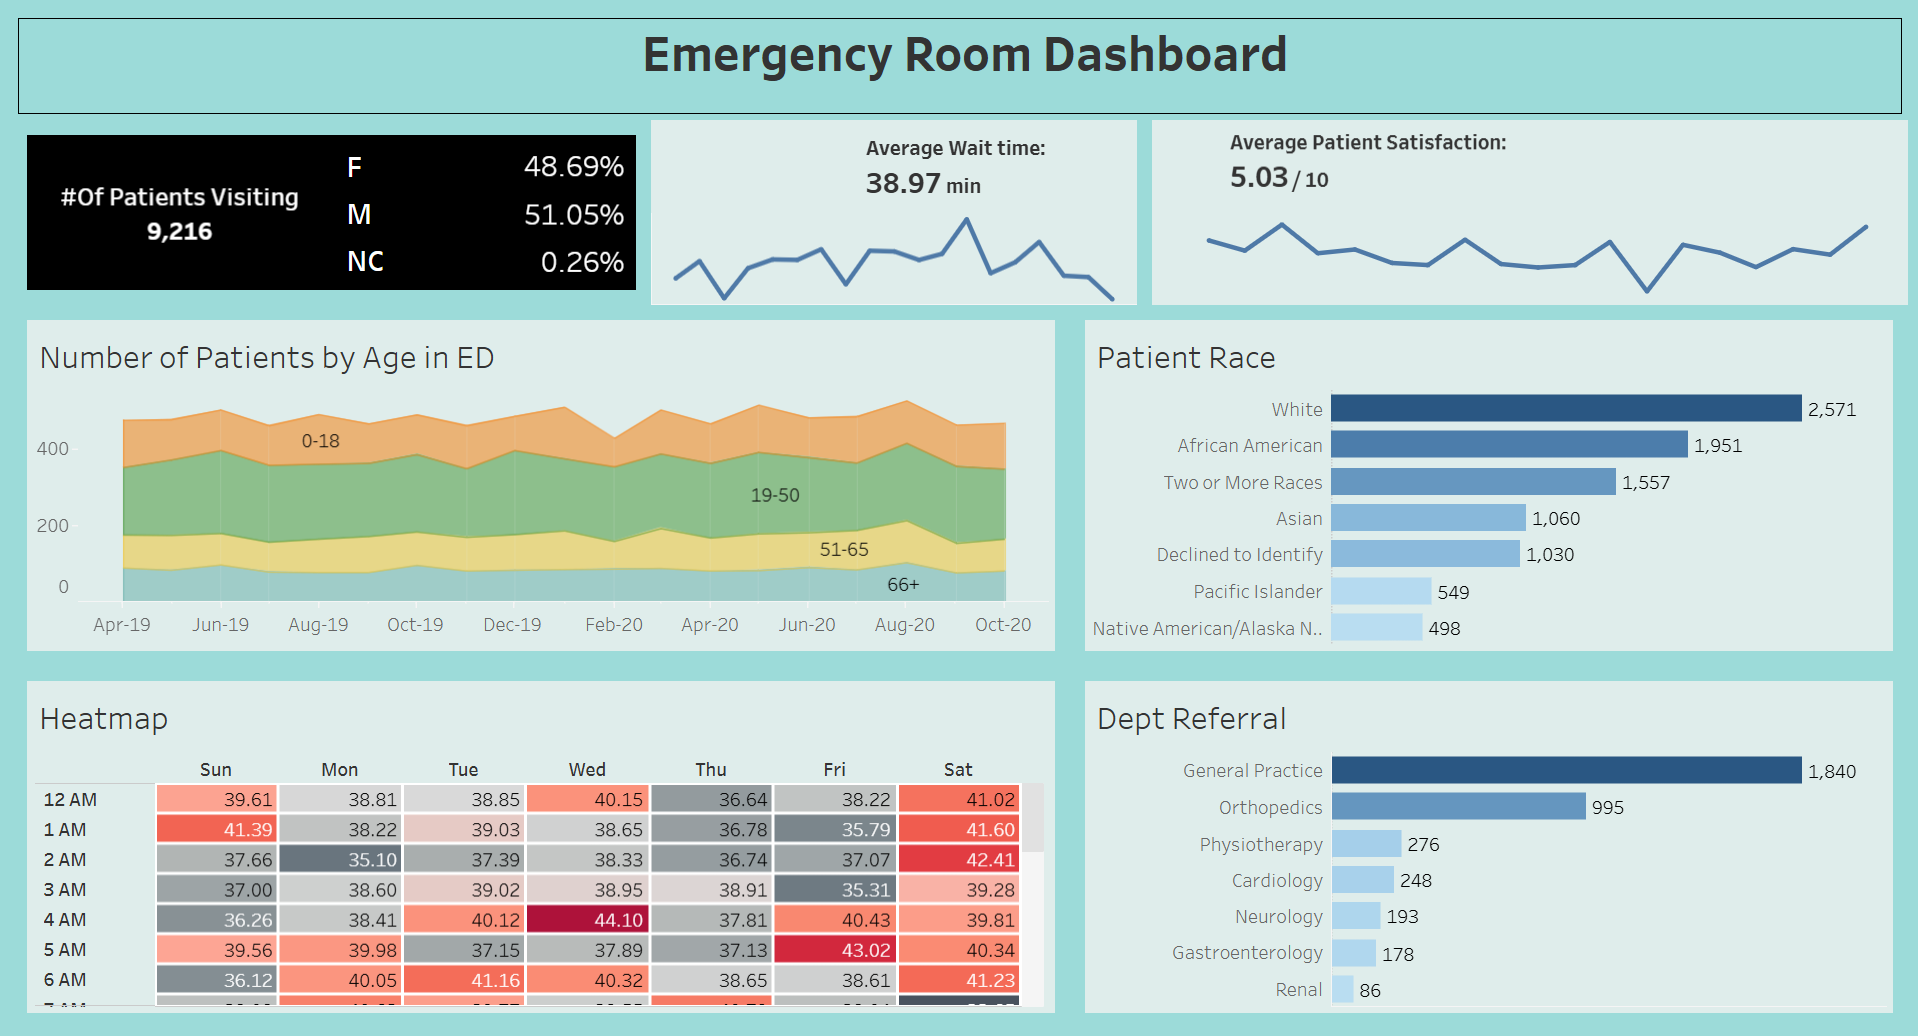

This screenshot's page, from the dashboard's own definition file:
{"tool":"tableau","page":{"name":"Dashboard 1","canvas":[1366,768],"ordinal":0},"visuals":[{"type":"text","box":[8,8,1350,80]},{"type":"image","param":"Image/Hourglass.png","box":[462.5,88,149.2,68.5]},{"type":"worksheet","title":"Average Wait time","mark":"Automatic","box":[612,88,208,68]},{"type":"image","param":"Image/Thumbs (1).png","box":[820,88,47,68.5]},{"type":"worksheet","title":"Average Satisfaction","mark":"Automatic","box":[867,88,491,68.5]},{"type":"worksheet","title":"# Pats ED","mark":"Automatic","box":[18,98,217.2,117]},{"type":"worksheet","title":"Gender","mark":"Automatic","rows":["patient_gender"],"box":[235.3,98,217.2,117]},{"type":"worksheet","title":"Waittime Average","mark":"Automatic","rows":["patient_waittime"],"cols":["date"],"box":[462.5,156.5,357.5,68.5]},{"type":"worksheet","title":"Patient Satisfaction","mark":"Automatic","rows":["patient_sat_score"],"cols":["date"],"box":[820,156.5,538,68.5]},{"type":"worksheet","title":"Number of Patients by Age","mark":"Area","rows":["patient_id"],"cols":["date"],"box":[18,235,733,247.5]},{"type":"worksheet","title":"Patient Race","mark":"Automatic","rows":["patient_race"],"cols":["patient_id"],"box":[771,235,577,247.5]},{"type":"worksheet","title":"Heatmap","mark":"Square","rows":["date"],"cols":["date"],"box":[18,502.5,733,247.5]},{"type":"worksheet","title":"Dept Referral","mark":"Automatic","rows":["department_referral"],"cols":["patient_id"],"box":[771,502.5,577,247.5]}]}

Visuals, with their boxes on the page's 1366x768 design canvas (x1, y1, x2, y2). These are canvas units, not pixel positions in the 1918x1036 screenshot, which may show the page scaled, cropped or inside an application window:
text: <region>8, 8, 1358, 88</region>
image: <region>462, 88, 612, 156</region>
"Average Wait time" worksheet: <region>612, 88, 820, 156</region>
image: <region>820, 88, 867, 156</region>
"Average Satisfaction" worksheet: <region>867, 88, 1358, 156</region>
"# Pats ED" worksheet: <region>18, 98, 235, 215</region>
"Gender" worksheet: <region>235, 98, 452, 215</region>
"Waittime Average" worksheet: <region>462, 156, 820, 225</region>
"Patient Satisfaction" worksheet: <region>820, 156, 1358, 225</region>
"Number of Patients by Age" worksheet (Area marks): <region>18, 235, 751, 482</region>
"Patient Race" worksheet: <region>771, 235, 1348, 482</region>
"Heatmap" worksheet (Square marks): <region>18, 502, 751, 750</region>
"Dept Referral" worksheet: <region>771, 502, 1348, 750</region>
